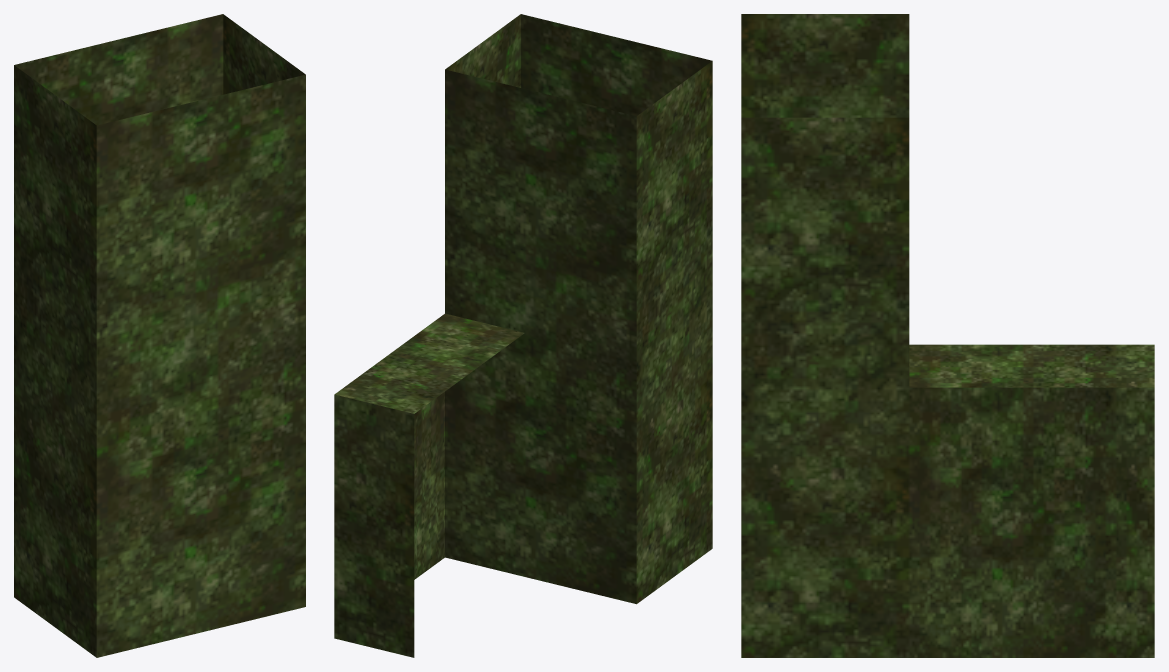
File: OVERHILL_A_01_LINE162.fbx
3 renders of one model, left to right at view 1: azimuth 30°, elevation 25°; view 2: azimuth 150°, elevation 25°; view 3: azimuth 270°, elevation 25°, orthographic. The views are drawn at different scales.
Parts seen in each view (by area): view 1: OVERHILL_A_01_LINE162; view 2: OVERHILL_A_01_LINE162; view 3: OVERHILL_A_01_LINE162.
Boxes of the visible parts, x1,y1,x2,y2 form: OVERHILL_A_01_LINE162: [14, 14, 305, 657]; OVERHILL_A_01_LINE162: [334, 14, 712, 657]; OVERHILL_A_01_LINE162: [741, 14, 1154, 657].
Size of the model in its own units: 17912 by 43580 by 30188.
1 material, 1 textured.
